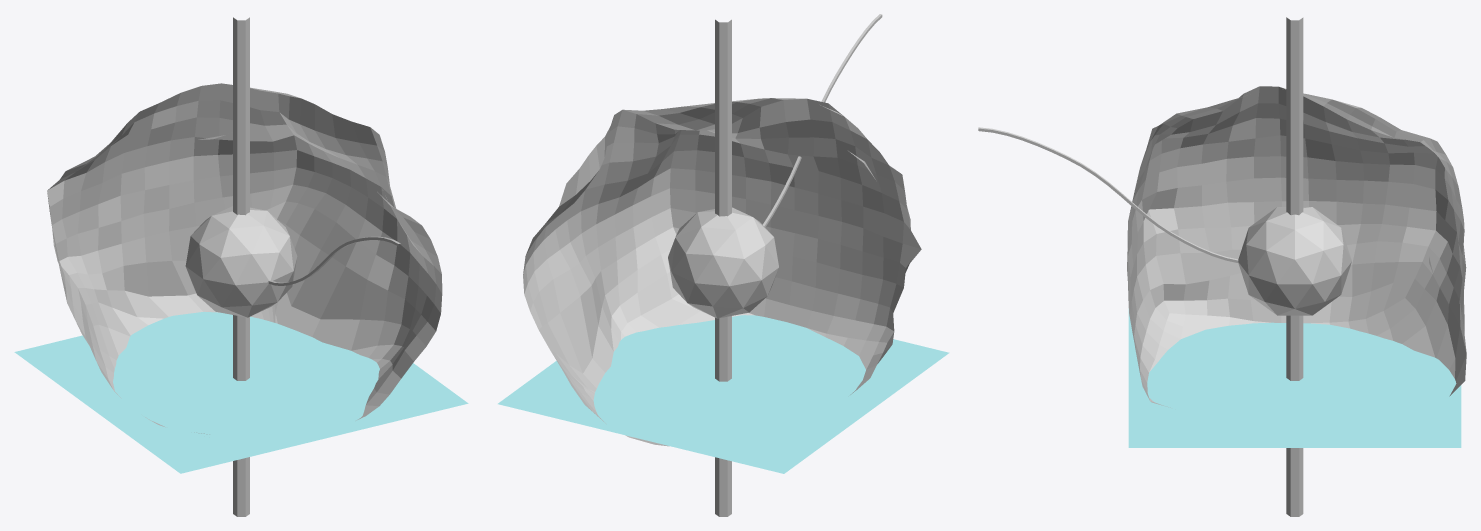
File: reactor.gltf
3 renders of one model, left to right at view 1: azimuth 30°, elevation 25°; view 2: azimuth 150°, elevation 25°; view 3: azimuth 270°, elevation 25°, orthographic.
Parts seen in each view (by area): view 1: cueva, AGUA, esferaExterior, Reactor, Cube; view 2: cueva, AGUA, esferaExterior, Reactor, Cube; view 3: cueva, AGUA, esferaExterior, Reactor, Cube.
Part boxes in pixels (x1,y1,x2,y2): cueva: (47, 83, 442, 434); AGUA: (14, 311, 468, 473); esferaExterior: (185, 206, 297, 317); Reactor: (233, 17, 249, 516); Cube: (268, 236, 400, 285); cueva: (523, 98, 921, 446); AGUA: (498, 315, 949, 473); esferaExterior: (668, 207, 778, 318); Reactor: (715, 19, 731, 516); Cube: (762, 14, 882, 227); cueva: (1127, 86, 1466, 407); AGUA: (1128, 308, 1461, 447); esferaExterior: (1238, 207, 1351, 315); Reactor: (1286, 17, 1303, 516); Cube: (978, 127, 1238, 263).
Bounding box in the file's own units: 483 × 767 × 684.
